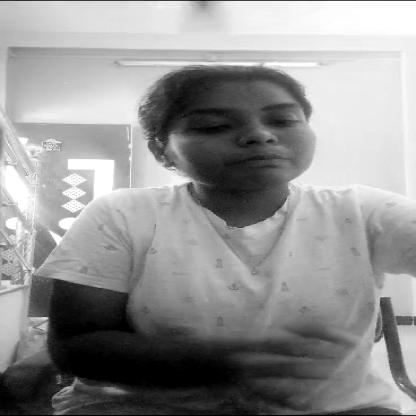Distracted: (141, 72, 334, 191)
